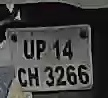1: (53, 38, 61, 61)
2: (55, 66, 67, 88)
3: (43, 65, 56, 89)
4: (61, 39, 74, 62)
6: (76, 62, 92, 88), (65, 64, 80, 89)
C: (14, 64, 28, 89)
H: (26, 66, 44, 89)
P: (34, 39, 48, 60)
U: (21, 39, 34, 60)
